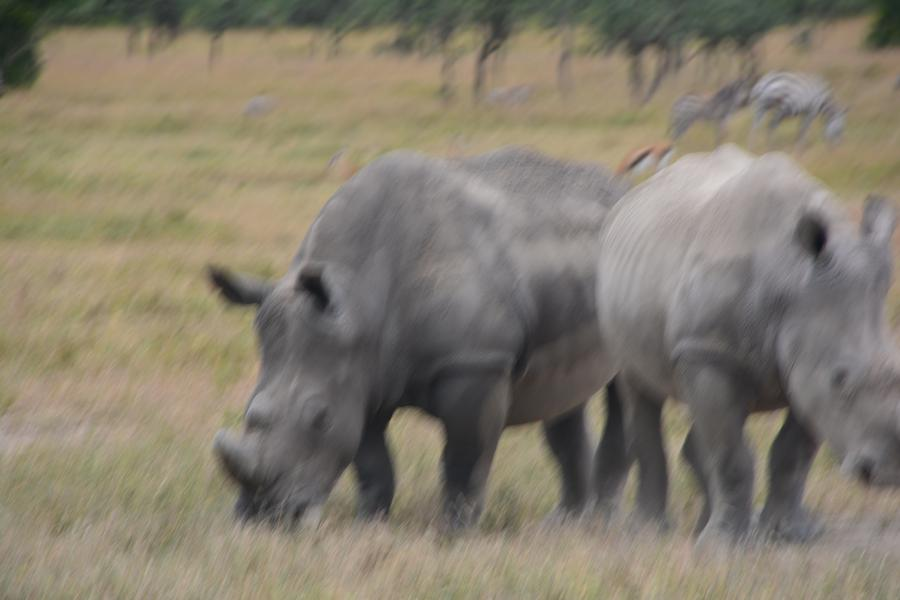rhino: (238, 144, 606, 520), (620, 148, 883, 545)
